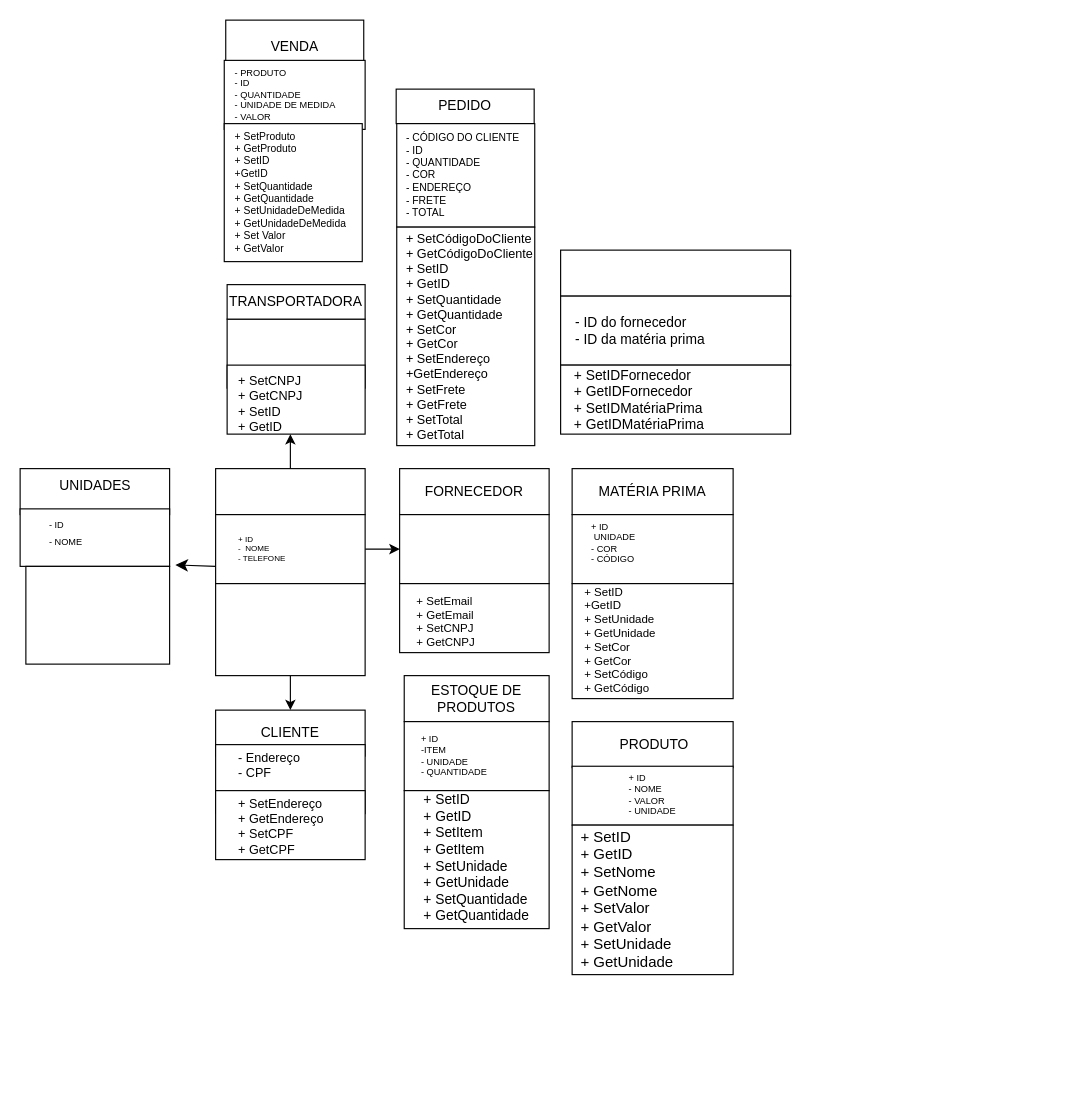
The diagram is 1087 pixels wide and 1098 high, and some of its shapes have lost their labels. Here are the shapes that lost their labels. From the top down, the centre of each, then its label:
point 675,272: FORNECEDOR - MATÉRIA PRIMA
point 295,353: - CNPJ - ID
point 289,491: PESSOA
point 473,548: - E-MAIL - CNPJ
point 97,614: + SetID + GetID + SetNome + GetNome
point 289,629: + SetID + GetID + SetNome + GetNome + SetTelefone + GetTelefone
